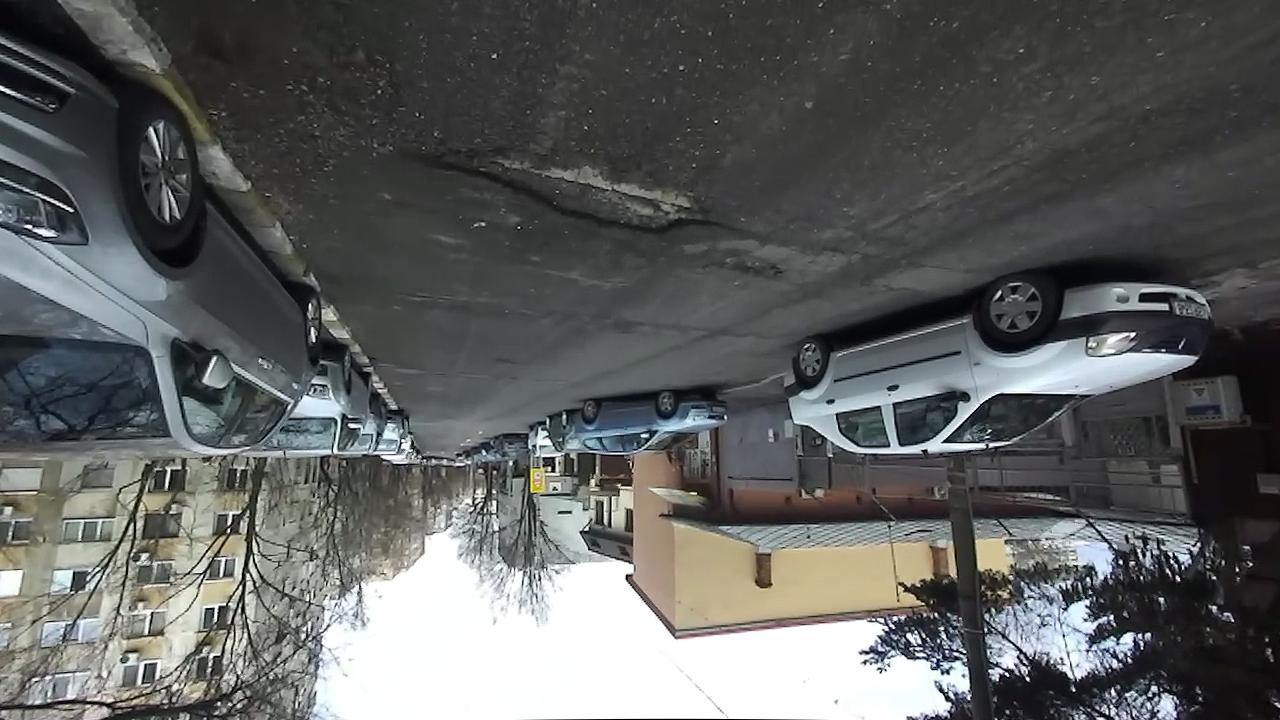pothole: (410, 145, 753, 240), (707, 253, 792, 285)
